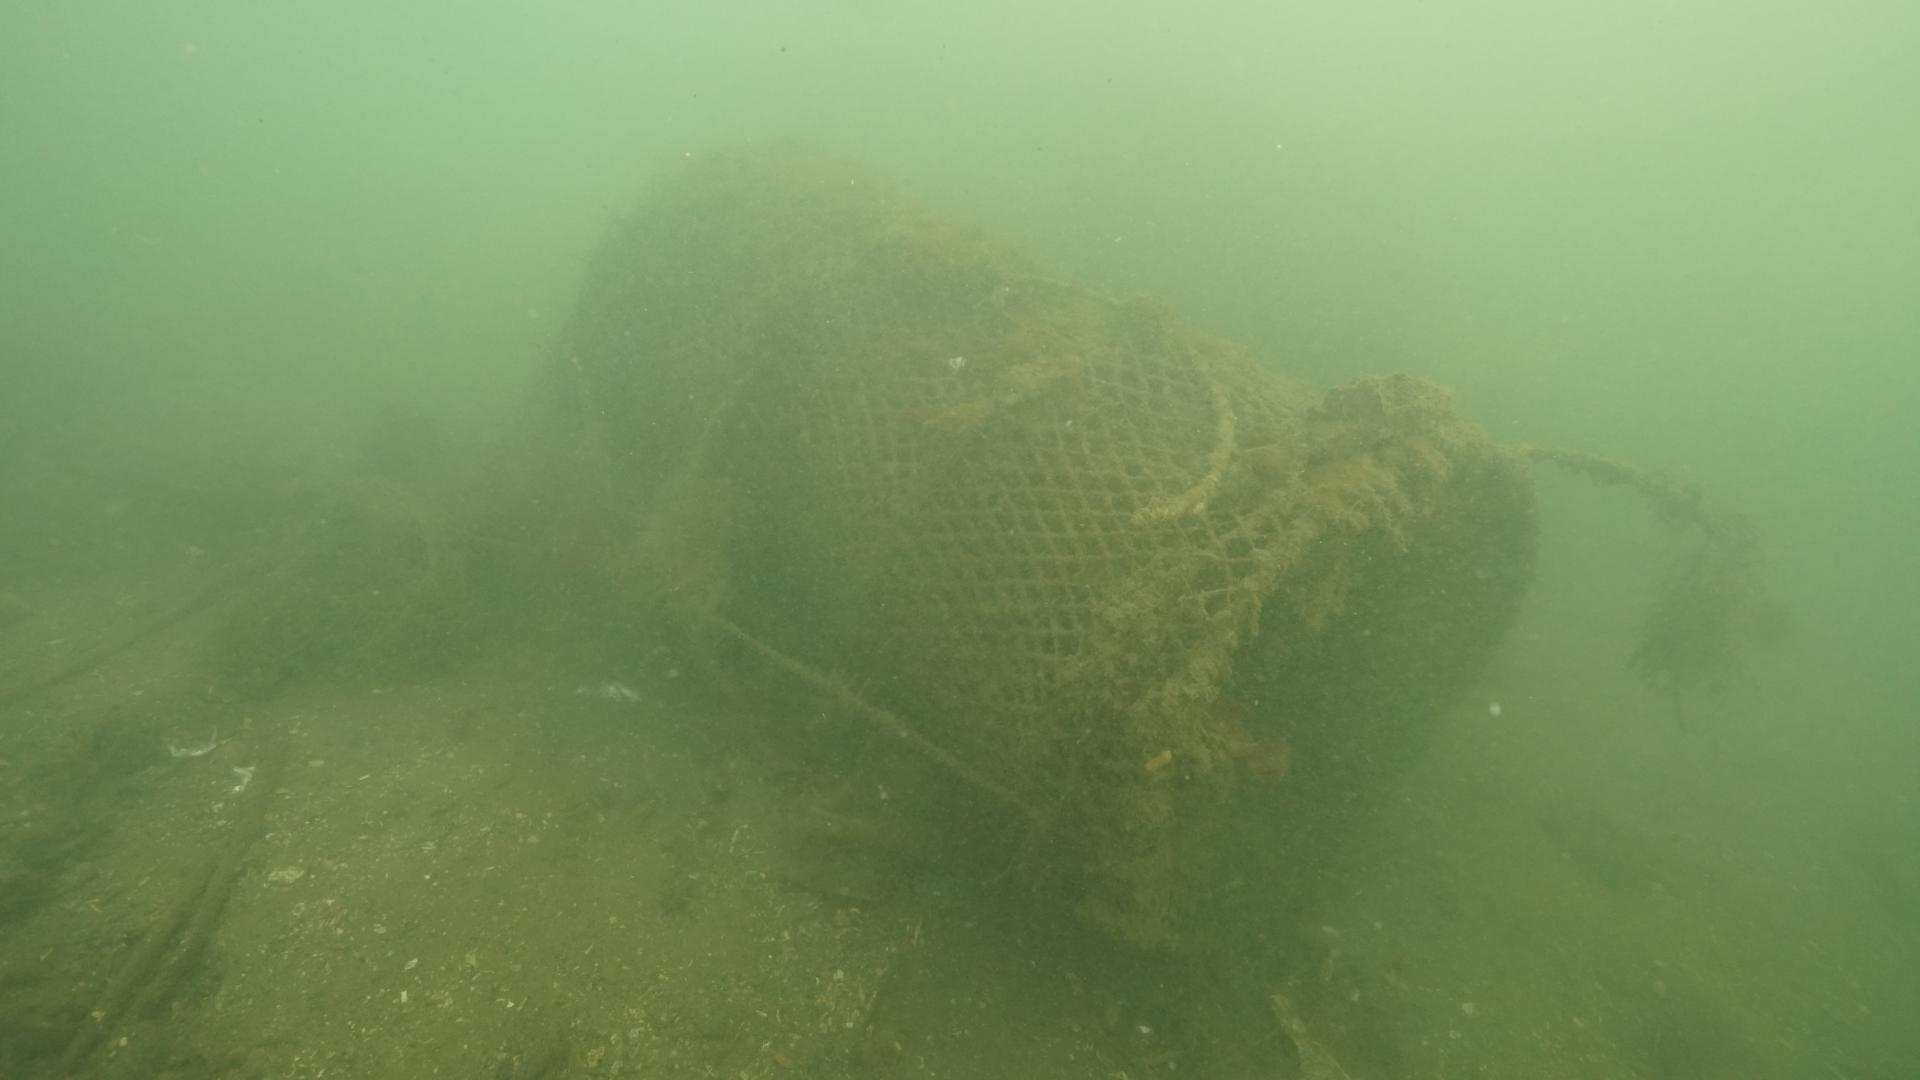spring fish trap: (508, 127, 1544, 969)
